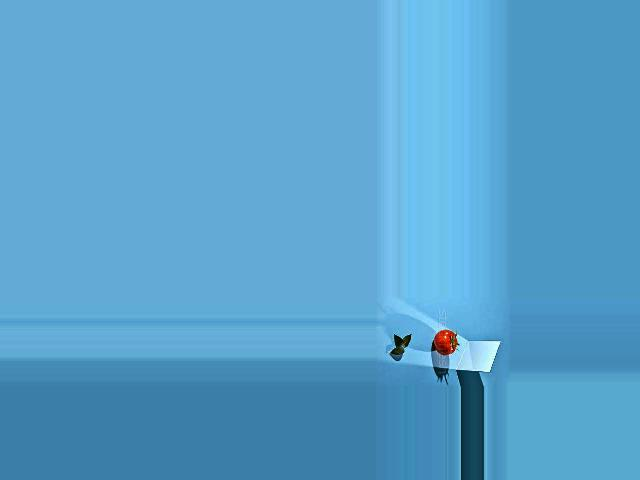tomato: (433, 329, 457, 355)
